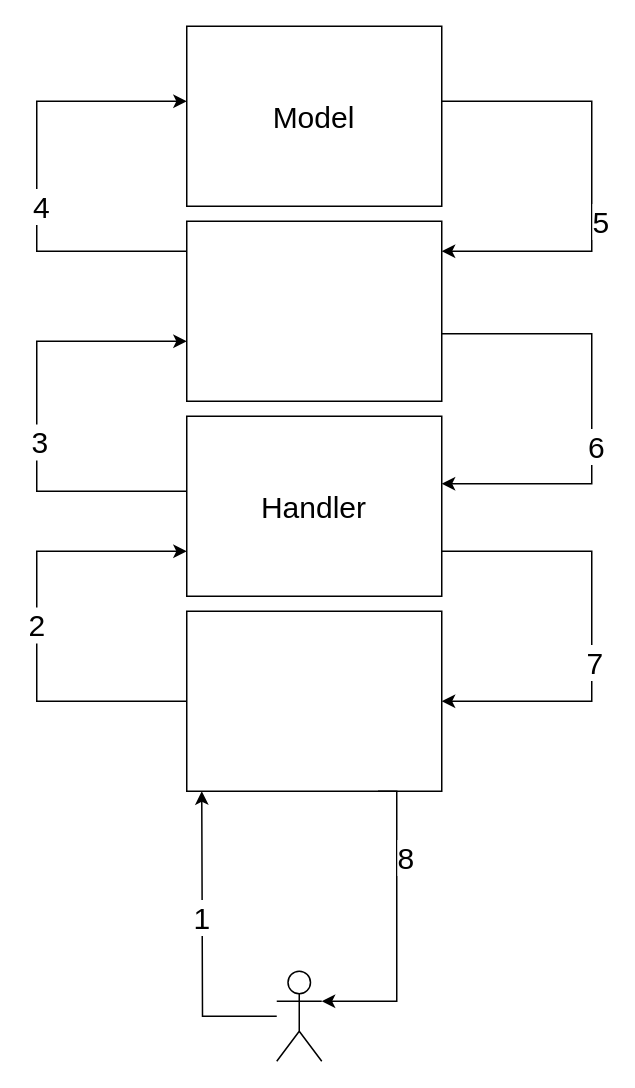
This 635x1088 diagram has some shape labels left out. The box of each missing label's shape, as (x1, y1, x2, y2) in pixels:
Controller: (185, 220, 442, 401)
Route: (185, 610, 442, 791)
